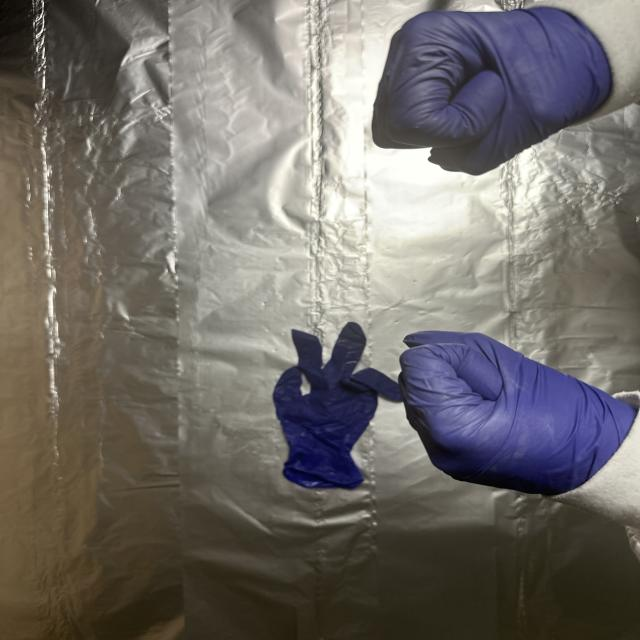gloves_contaminated: (372, 8, 614, 175), (399, 331, 637, 496)
